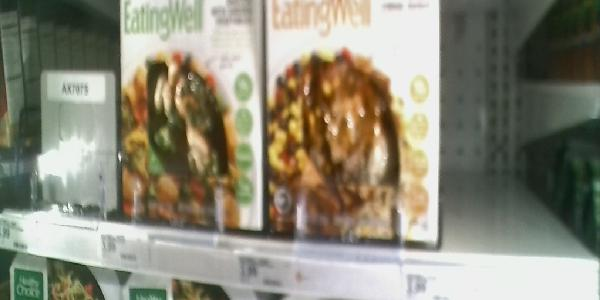pizza1: (268, 1, 441, 246), (121, 1, 261, 230)
